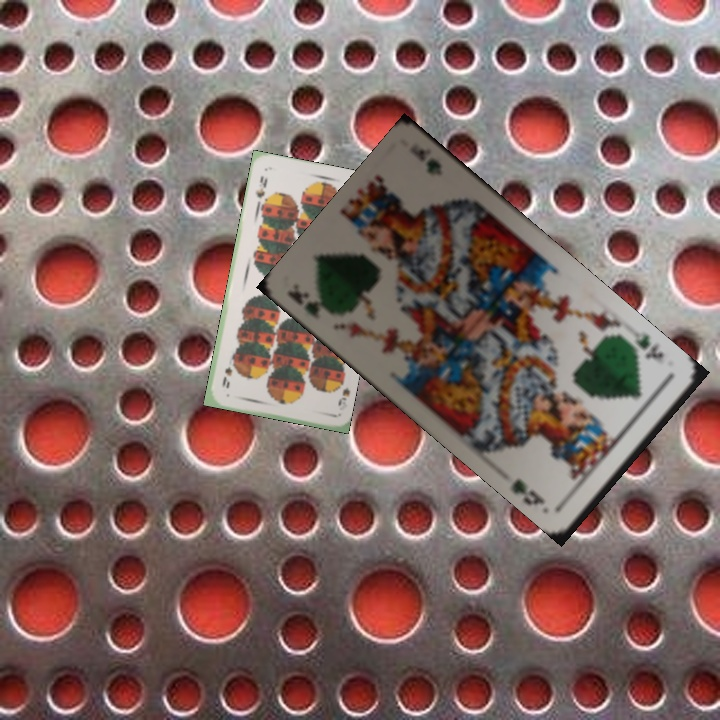GK: (284, 280, 325, 322), (630, 327, 667, 362)
S9: (251, 171, 270, 208), (332, 375, 352, 408)
